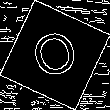O_S: (26, 23, 84, 87)
